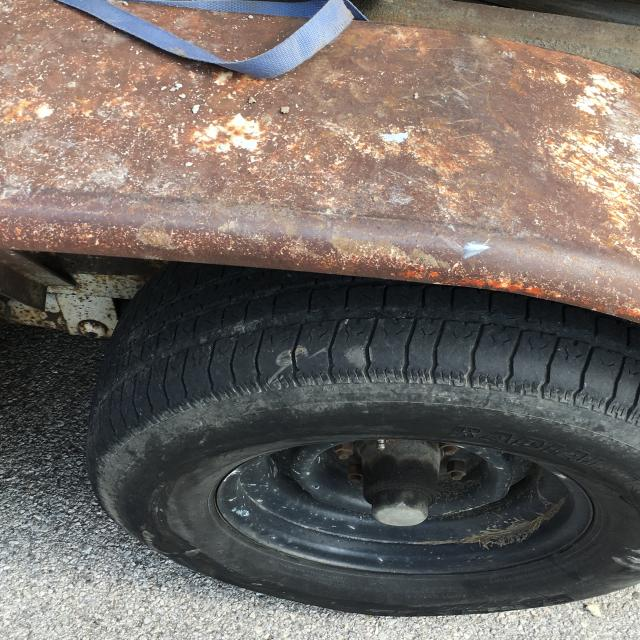corrosion: (0, 0, 640, 310)
